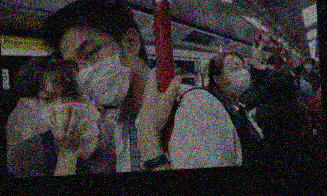with_mask: (63, 36, 132, 106), (38, 81, 89, 135), (223, 59, 252, 96), (304, 59, 314, 71)
